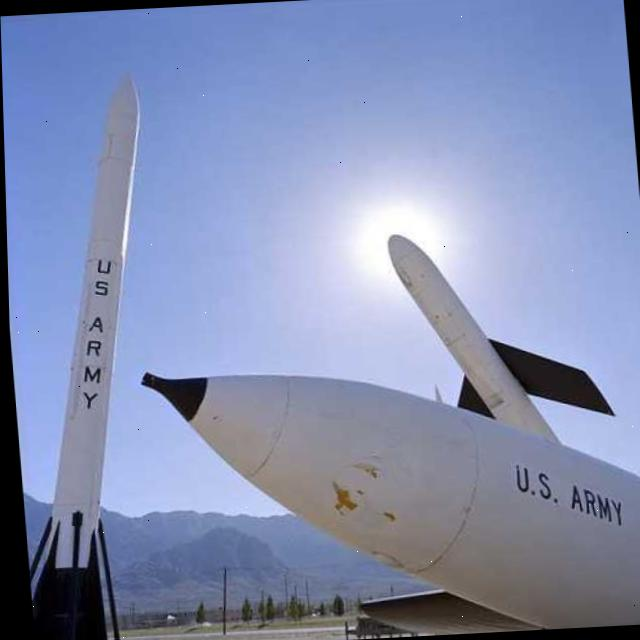missile: (140, 341, 640, 640), (2, 72, 184, 640), (385, 223, 613, 472)
